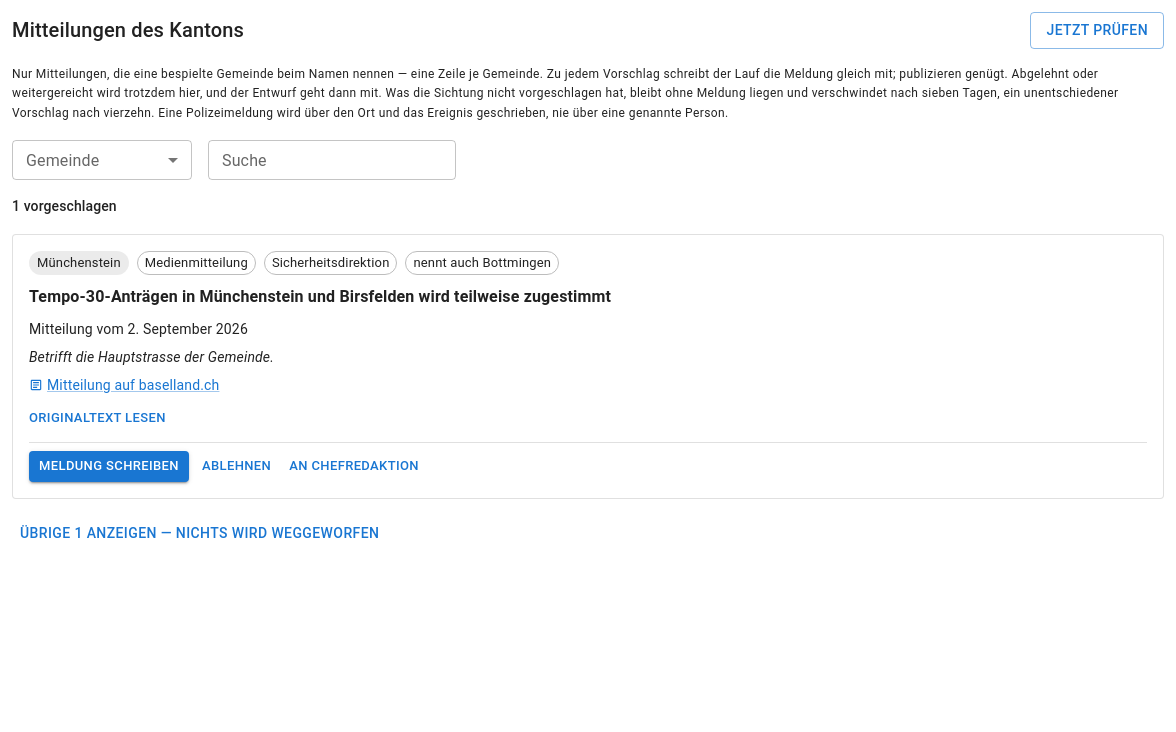
Kanton › faltet die Uebrigen weg, ohne sie zu verstecken
Expected: the heading "1 vorgeschlagen" is shown, [12,198,117,214]
Expected: the text "Kantonale Statistik erschienen" is not shown
Step 1. Click the button "Übrige 1 anzeigen — nichts wird weggeworfen" → (200, 533), box [12,515,387,551]
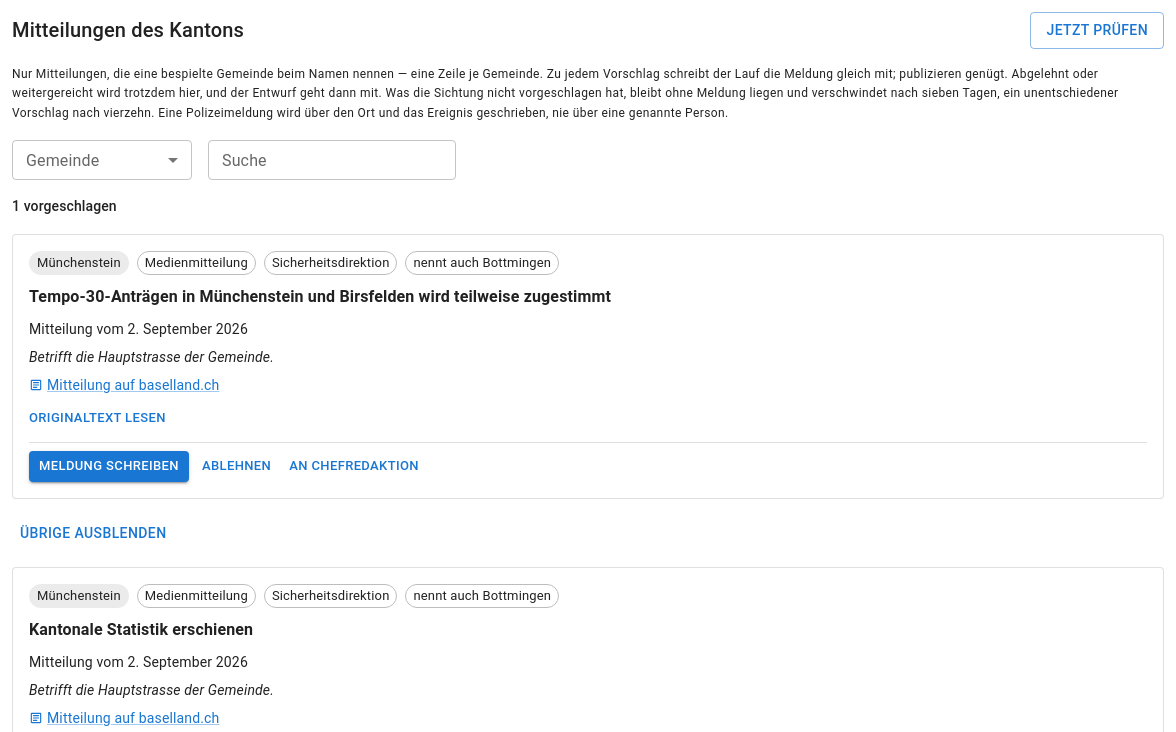
Now the heading "Kantonale Statistik erschienen" is shown, box [29,620,253,639]
